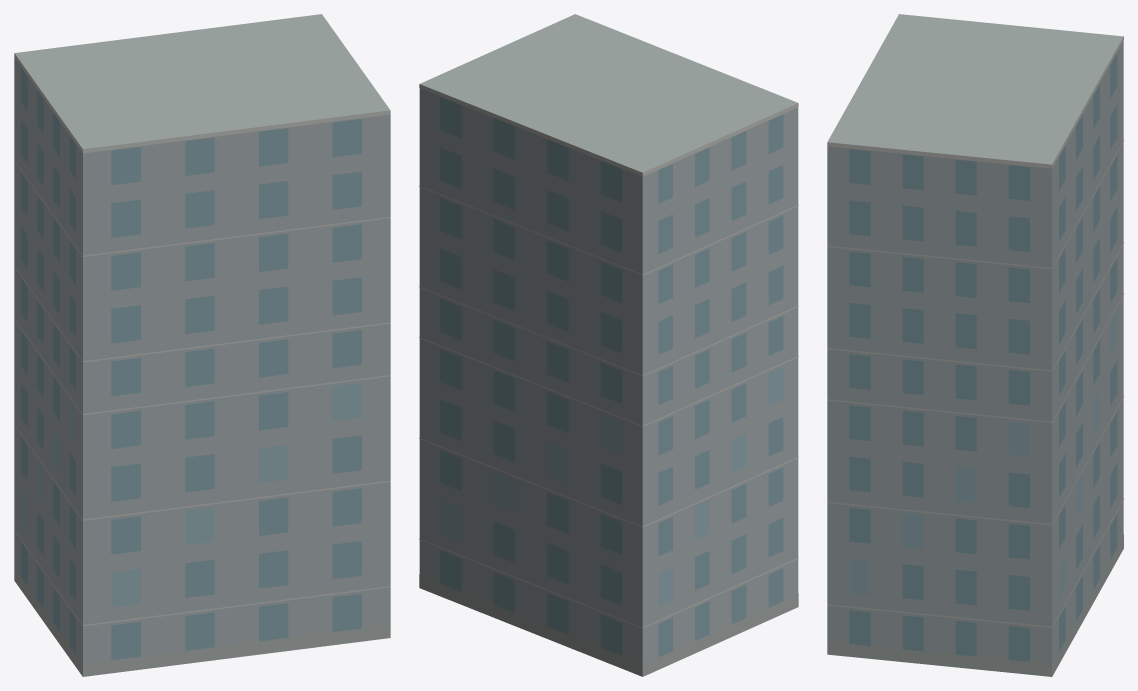
File: residential-ba42a8f2-89d6-4da5-a959-7408228da364.glb
3 views of the same model, side by side, from view 1: azimuth 30°, elevation 25°; view 2: azimuth 150°, elevation 25°; view 3: azimuth 270°, elevation 25° (orthographic). The views are drawn at different scales.
Parts seen in each view (by area): view 1: residential-ba42a8f2-89d6-4da5-a959-7408228da364.tmp; view 2: residential-ba42a8f2-89d6-4da5-a959-7408228da364.tmp; view 3: residential-ba42a8f2-89d6-4da5-a959-7408228da364.tmp.
Part boxes in pixels (<box>): residential-ba42a8f2-89d6-4da5-a959-7408228da364.tmp: <box>14,14,390,676</box>; residential-ba42a8f2-89d6-4da5-a959-7408228da364.tmp: <box>419,14,798,676</box>; residential-ba42a8f2-89d6-4da5-a959-7408228da364.tmp: <box>827,14,1123,676</box>.
Size of the model in its own units: 19.25 by 30.5 by 16.02.
